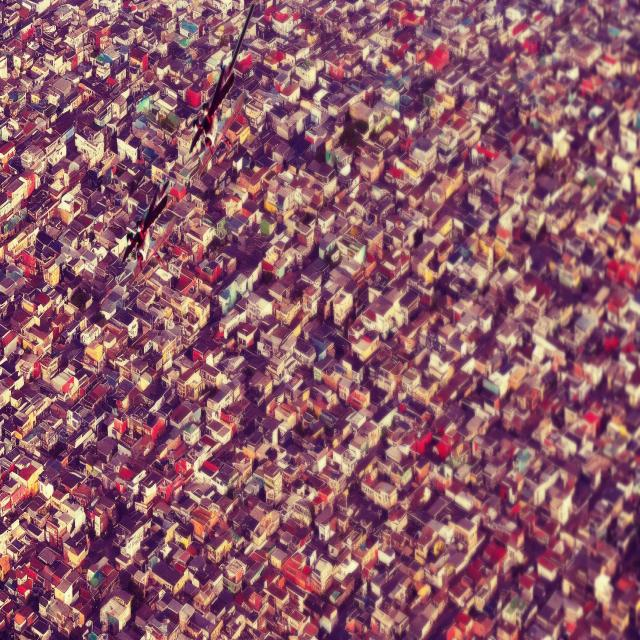airplane: (185, 2, 255, 173), (120, 178, 172, 270)
